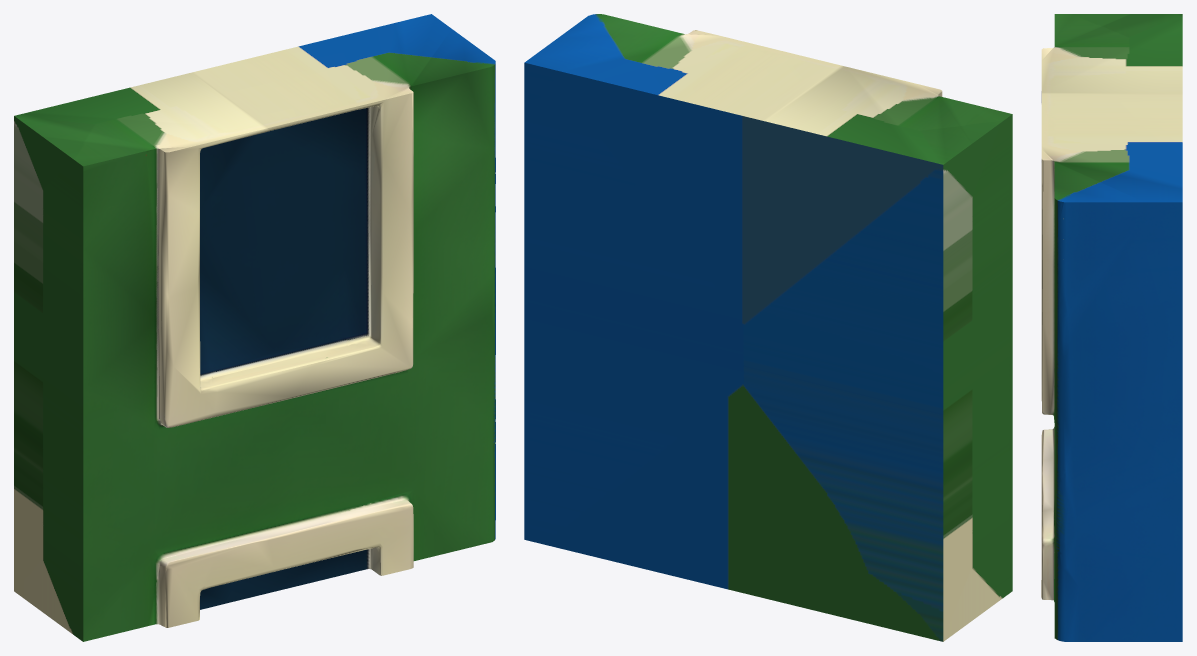
The model's file is 6-upper-walls-front-right.fbx.
3 views of the same model, side by side, from view 1: azimuth 30°, elevation 25°; view 2: azimuth 150°, elevation 25°; view 3: azimuth 270°, elevation 25° (orthographic). The views are drawn at different scales.
Parts seen in each view (by area): view 1: upper-walls-front-right; view 2: upper-walls-front-right; view 3: upper-walls-front-right.
Part boxes in pixels (<box>): upper-walls-front-right: <box>14,14,495,641</box>; upper-walls-front-right: <box>524,14,1012,641</box>; upper-walls-front-right: <box>1041,14,1182,641</box>.
Bounding box in the file's own units: 5288 × 5754 × 1673.
Materials: 1 (1 with a texture image).
